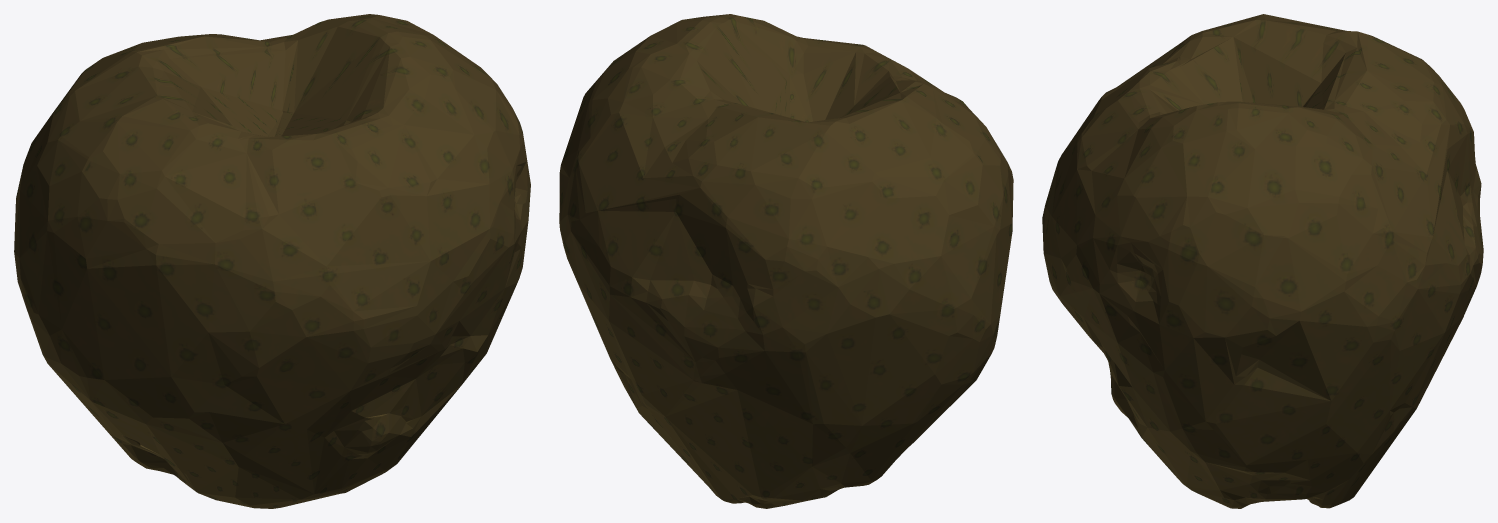
3 renders of one model, left to right at view 1: azimuth 30°, elevation 25°; view 2: azimuth 150°, elevation 25°; view 3: azimuth 270°, elevation 25°, orthographic. The views are drawn at different scales.
Parts seen in each view (by area): view 1: _002_Meshed; view 2: _002_Meshed; view 3: _002_Meshed.
Part boxes in pixels (<box>): _002_Meshed: <box>14,14,530,508</box>; _002_Meshed: <box>559,14,1013,508</box>; _002_Meshed: <box>1042,14,1483,508</box>.
Bounding box in the file's own units: 0.1 × 0.0879 × 0.0956.
1 material, 1 textured.
